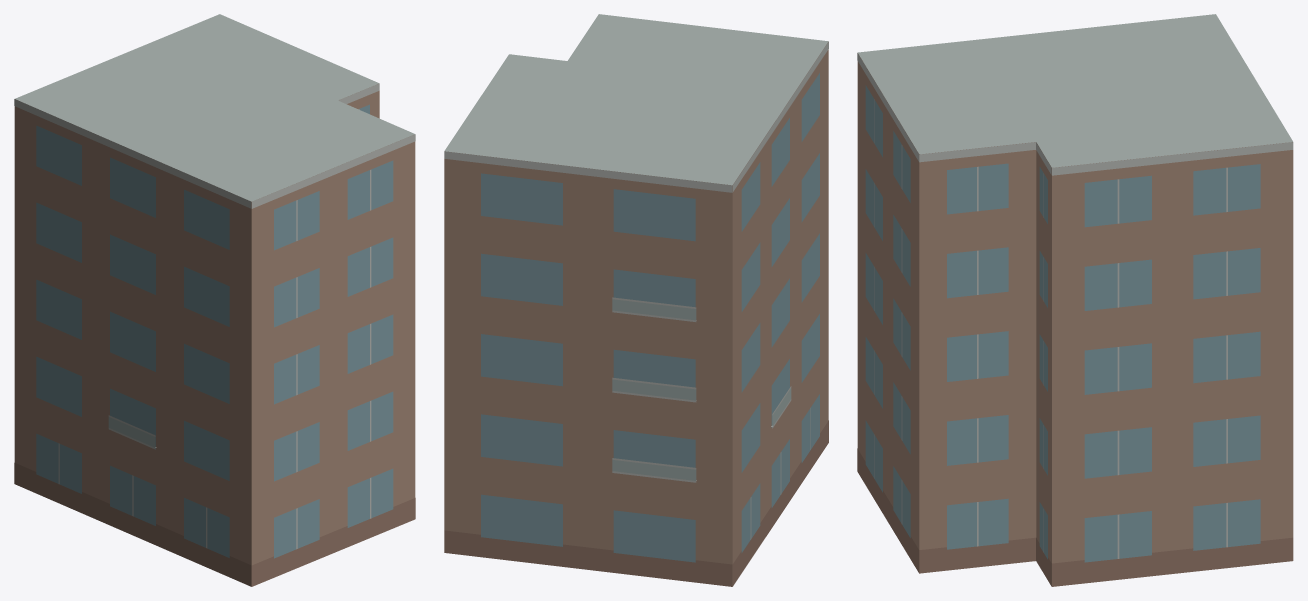
Rendered from survey-upis-32688666.glb.
The picture shows the model from 3 angles, left to right: view 1: azimuth 30°, elevation 25°; view 2: azimuth 150°, elevation 25°; view 3: azimuth 270°, elevation 25°; orthographic projection. The views are drawn at different scales.
Parts seen in each view (by area): view 1: survey-upis-32688666.tmp; view 2: survey-upis-32688666.tmp; view 3: survey-upis-32688666.tmp.
Part boxes in pixels (x1,y1,x2,y2): survey-upis-32688666.tmp: [14, 14, 415, 586]; survey-upis-32688666.tmp: [444, 14, 828, 586]; survey-upis-32688666.tmp: [857, 14, 1293, 586].
Size of the model in its own units: 10.24 by 13 by 12.27.
